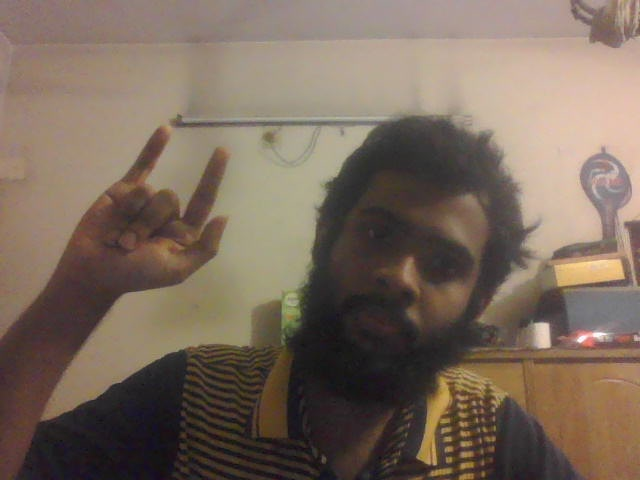I Love You: (63, 126, 232, 289)
